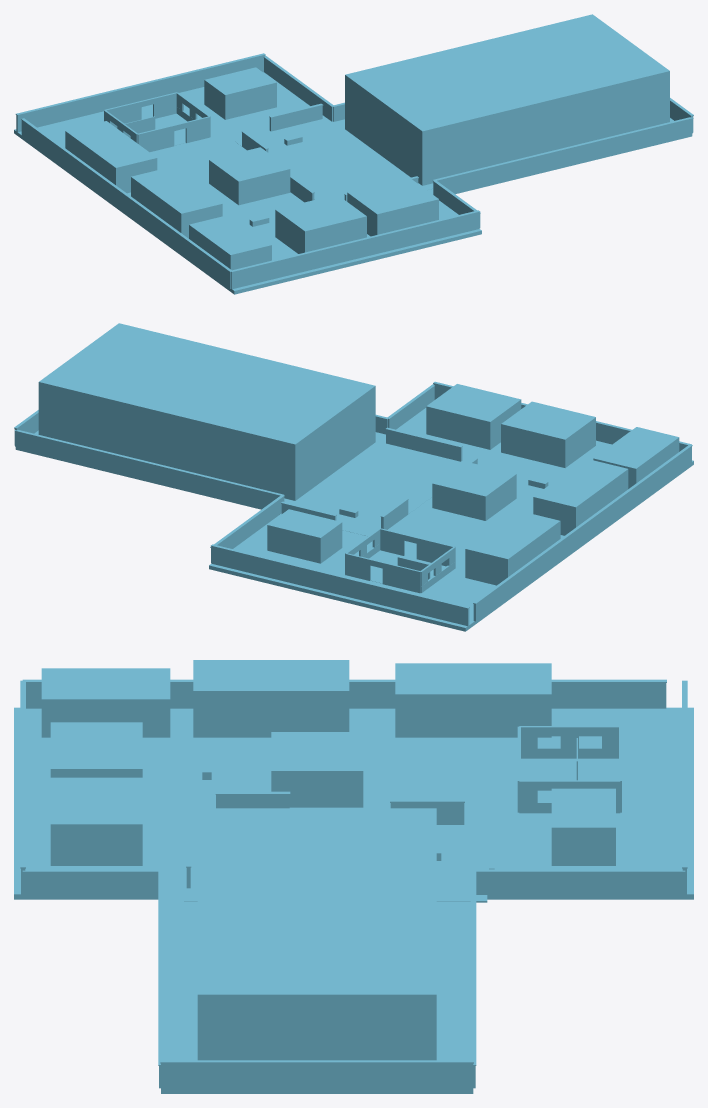
The model's file is collision-proxies.glb.
3 views of the same model, one above another, from view 1: azimuth 30°, elevation 25°; view 2: azimuth 150°, elevation 25°; view 3: azimuth 270°, elevation 25° (orthographic). The views are drawn at different scales.
Parts seen in each view (by area): view 1: COL_Landmark_LongHall_ExteriorOnly, COL_StreetPaving, COL_ForecourtPaving, COL_SouthBoundary, COL_LaneHouse_B_Walls, COL_ChurchSouthBoundary, COL_LaneHouse_C_Walls, COL_NorthBoundary, COL_LaneHouse_E_Walls, COL_WestBoundary, COL_LaneHouse_F_Walls, COL_LaneHouse_D_Walls (+16 smaller); view 2: COL_Landmark_LongHall_ExteriorOnly, COL_StreetPaving, COL_ForecourtPaving, COL_LaneHouse_B_Walls, COL_NorthBoundary, COL_LaneHouse_E_Walls, COL_LaneHouse_F_Walls, COL_LaneHouse_C_Walls, COL_ChurchNorthBoundary, COL_WestBoundary, COL_LaneHouse_D_Walls, COL_LaneHouse_G_Walls (+15 smaller); view 3: COL_Landmark_LongHall_ExteriorOnly, COL_StreetPaving, COL_LaneHouse_C_Walls, COL_ChurchSidePaving, COL_LaneHouse_E_Walls, COL_EastBoundary, COL_LaneHouse_F_Walls, COL_LaneHouse_A_Walls, COL_LaneHouse_D_Walls, COL_WestBoundary, COL_LaneHouse_B_Walls, COL_LaneHouse_G_Walls (+18 smaller).
Boxes of the visible parts, x1=… form: COL_Landmark_LongHall_ExteriorOnly: x1=345, y1=14, x2=669, y2=185; COL_StreetPaving: x1=14, y1=72, x2=481, y2=291; COL_ForecourtPaving: x1=235, y1=118, x2=433, y2=199; COL_SouthBoundary: x1=231, y1=212, x2=479, y2=289; COL_LaneHouse_B_Walls: x1=275, y1=194, x2=366, y2=253; COL_ChurchSouthBoundary: x1=438, y1=119, x2=692, y2=191; COL_LaneHouse_C_Walls: x1=131, y1=166, x2=222, y2=238; COL_NorthBoundary: x1=16, y1=55, x2=265, y2=132; COL_LaneHouse_E_Walls: x1=65, y1=121, x2=157, y2=193; COL_WestBoundary: x1=21, y1=120, x2=231, y2=288; COL_LaneHouse_F_Walls: x1=347, y1=177, x2=438, y2=236; COL_LaneHouse_D_Walls: x1=209, y1=147, x2=290, y2=205; COL_Landmark_LongHall_ExteriorOnly: x1=38, y1=323, x2=375, y2=500; COL_StreetPaving: x1=209, y1=408, x2=693, y2=628; COL_ForecourtPaving: x1=280, y1=439, x2=468, y2=536; COL_LaneHouse_B_Walls: x1=501, y1=401, x2=595, y2=467; COL_NorthBoundary: x1=211, y1=546, x2=469, y2=626; COL_LaneHouse_E_Walls: x1=465, y1=510, x2=560, y2=585; COL_LaneHouse_F_Walls: x1=426, y1=384, x2=521, y2=449; COL_LaneHouse_C_Walls: x1=533, y1=458, x2=628, y2=535; COL_ChurchNorthBoundary: x1=15, y1=431, x2=279, y2=507; COL_WestBoundary: x1=473, y1=446, x2=691, y2=621; COL_LaneHouse_D_Walls: x1=432, y1=461, x2=516, y2=520; COL_LaneHouse_G_Walls: x1=267, y1=509, x2=342, y2=563; COL_Landmark_LongHall_ExteriorOnly: x1=197, y1=808, x2=436, y2=1060; COL_StreetPaving: x1=14, y1=707, x2=693, y2=895; COL_LaneHouse_C_Walls: x1=193, y1=660, x2=349, y2=737; COL_ChurchSidePaving: x1=163, y1=894, x2=472, y2=1089; COL_LaneHouse_E_Walls: x1=395, y1=663, x2=551, y2=737; COL_EastBoundary: x1=161, y1=1063, x2=473, y2=1089; COL_LaneHouse_F_Walls: x1=50, y1=777, x2=142, y2=865; COL_LaneHouse_A_Walls: x1=41, y1=668, x2=170, y2=737; COL_LaneHouse_D_Walls: x1=271, y1=732, x2=363, y2=807; COL_WestBoundary: x1=26, y1=683, x2=666, y2=708; COL_LaneHouse_B_Walls: x1=50, y1=722, x2=142, y2=777; COL_LaneHouse_G_Walls: x1=551, y1=788, x2=615, y2=865.
Bounding box in the file's own units: 98.57 × 10.98 × 74.
